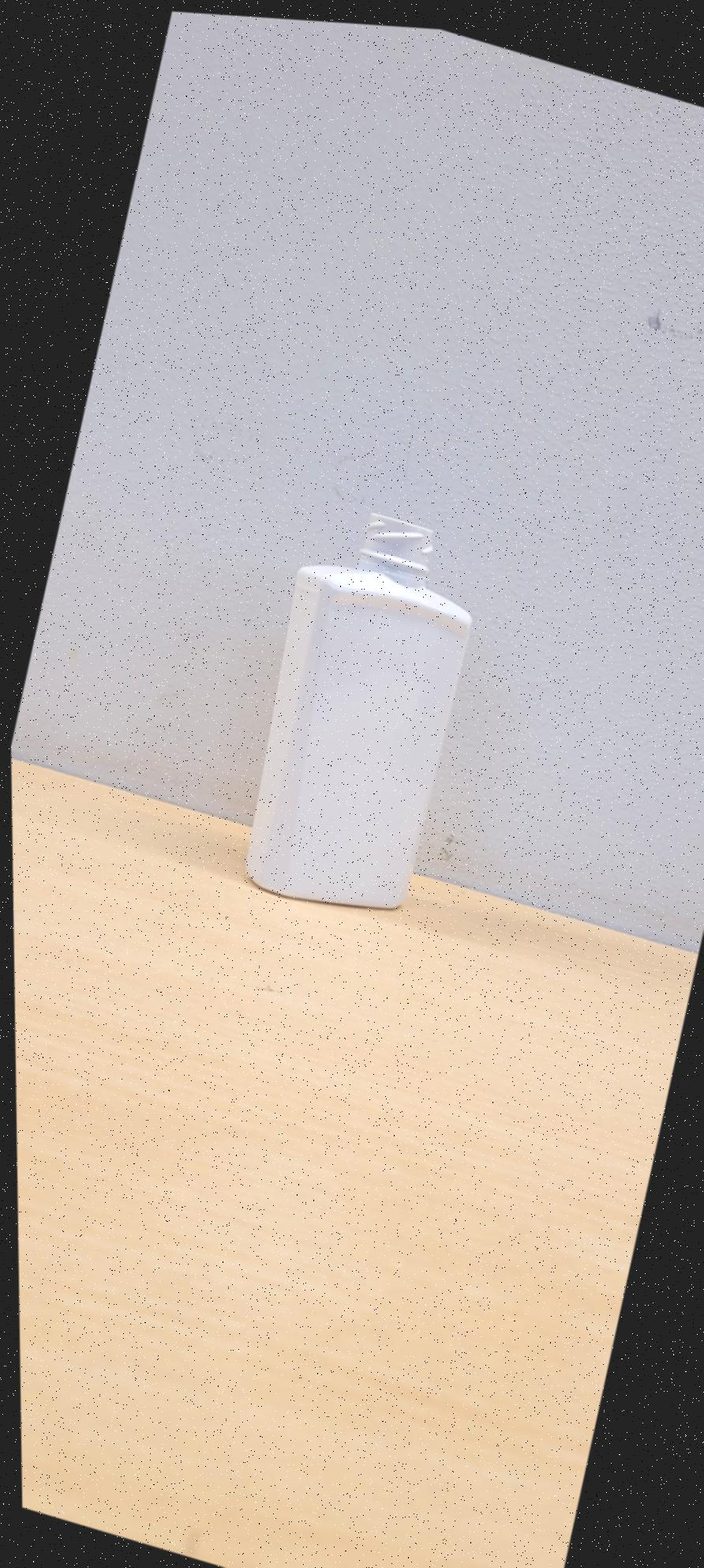bottle: (246, 513, 471, 908)
